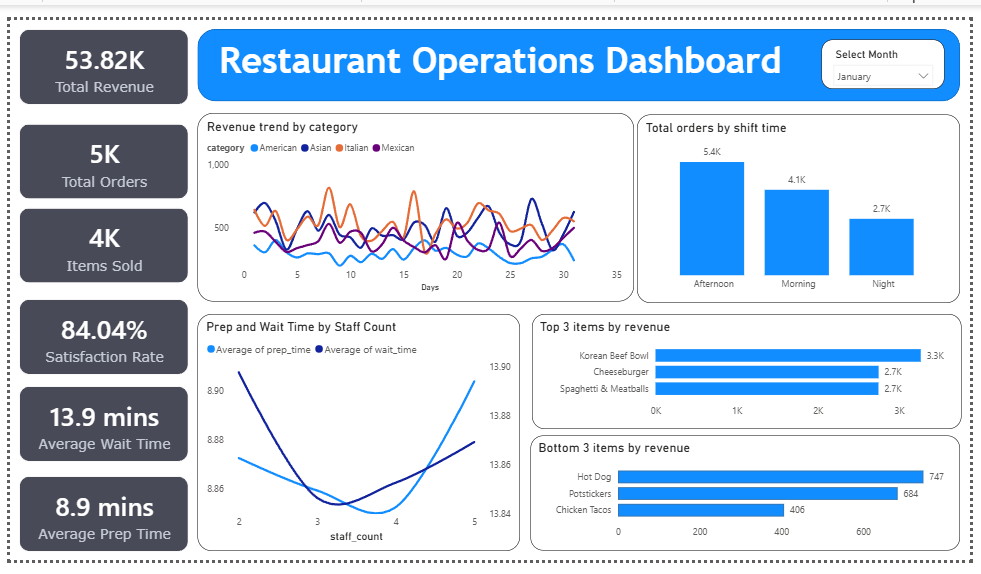

Layout of this report page (visuals, bound fields, positions):
{"tool":"powerbi","page":{"name":"Page 1","canvas":[1280,720],"ordinal":0},"visuals":[{"type":"lineChart","fields":{"Category":["restaurant_operations_analytics order_details.order_date.Variation.Date Hierarchy.Day"],"Y":["_measures.Total_revenue"],"Series":["restaurant_operations_analytics menu_items.category"]},"box":[249.5,124.7,582.1,251.3],"z":0},{"type":"barChart","title":"Top 3 items by revenue","fields":{"Category":["restaurant_operations_analytics menu_items.item_name"],"Y":["_measures.Total_revenue"]},"box":[695.4,391.2,572.6,153.1],"z":1000},{"type":"barChart","title":"Bottom 3 items by revenue","fields":{"Category":["restaurant_operations_analytics menu_items.item_name"],"Y":["_measures.Total_revenue"]},"box":[693.5,553.7,572.6,153.1],"z":2000},{"type":"cardVisual","fields":{"Data":["_measures.Total_revenue"]},"box":[0,0,250,125],"z":3000},{"type":"cardVisual","fields":{"Data":["_measures.Total_orders"]},"box":[0,125,250,125],"z":4000},{"type":"cardVisual","fields":{"Data":["_measures.Average Prep Time"]},"box":[0,595,250,125],"z":5000},{"type":"cardVisual","fields":{"Data":["_measures.Average Wait Time"]},"box":[0,475,250,125],"z":6000},{"type":"cardVisual","fields":{"Data":["_measures.satisfaction_rate"]},"box":[0,360,250,125],"z":7000},{"type":"cardVisual","fields":{"Data":["_measures.Total_items_sold"]},"box":[0,237.5,250,125],"z":8000},{"type":"lineChart","title":"Staff_count vs Time","fields":{"Y":["Avg(restaurant_operations_analytics operational_metrices.prep_time)"],"Y2":["Avg(restaurant_operations_analytics operational_metrices.wait_time)"],"Category":["restaurant_operations_analytics staffing_metrices.staff_count"]},"box":[250,391.7,430,315.8],"z":9000},{"type":"clusteredColumnChart","title":"total orders by shift time","fields":{"Y":["CountNonNull(restaurant_operations_analytics operational_metrices.order_id)"],"Category":["restaurant_operations_analytics staffing_metrices.shift_time"]},"box":[835.3,126.6,430.9,251.3],"z":10000},{"type":"shape","box":[249.5,11.3,1016.7,96.4],"z":10001},{"type":"textbox","box":[274,20.8,971.3,86.9],"z":10002}]}

Visuals, with their boxes in screenshot pixels (x1, y1, x2, y2):
lineChart - restaurant_operations_analytics order_details.order_date.Variation.Date Hierarchy.Day x _measures.Total_revenue: l=194, t=110, r=634, b=300
"Top 3 items by revenue" barChart: l=531, t=311, r=963, b=427
"Bottom 3 items by revenue" barChart: l=529, t=434, r=962, b=550
cardVisual - _measures.Total_revenue: l=5, t=15, r=194, b=110
cardVisual - _measures.Total_orders: l=5, t=110, r=194, b=204
cardVisual - _measures.Average Prep Time: l=5, t=465, r=194, b=560
cardVisual - _measures.Average Wait Time: l=5, t=374, r=194, b=469
cardVisual - _measures.satisfaction_rate: l=5, t=287, r=194, b=382
cardVisual - _measures.Total_items_sold: l=5, t=195, r=194, b=289
"Staff_count vs Time" lineChart: l=194, t=311, r=519, b=550
"total orders by shift time" clusteredColumnChart: l=636, t=111, r=962, b=301
shape: l=194, t=24, r=962, b=97
textbox: l=212, t=31, r=946, b=97
